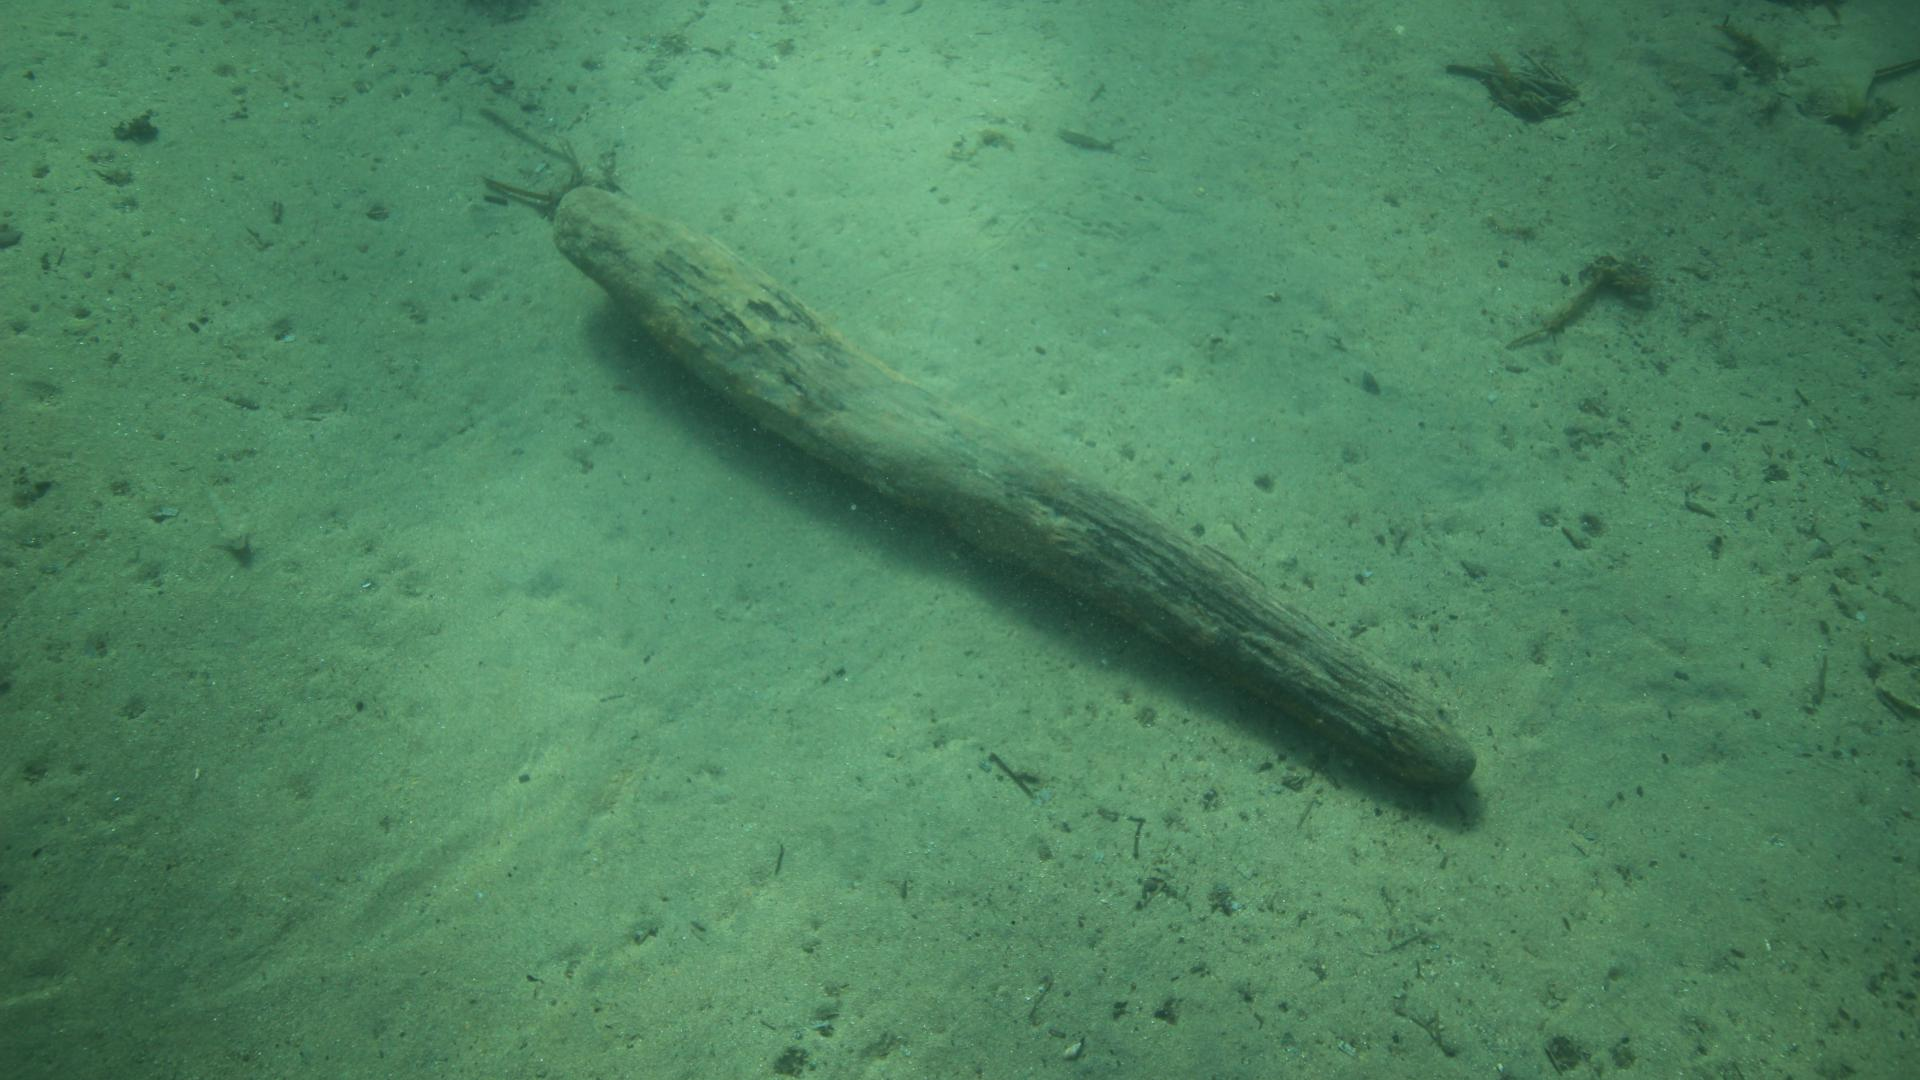wood: (550, 182, 1478, 791)
